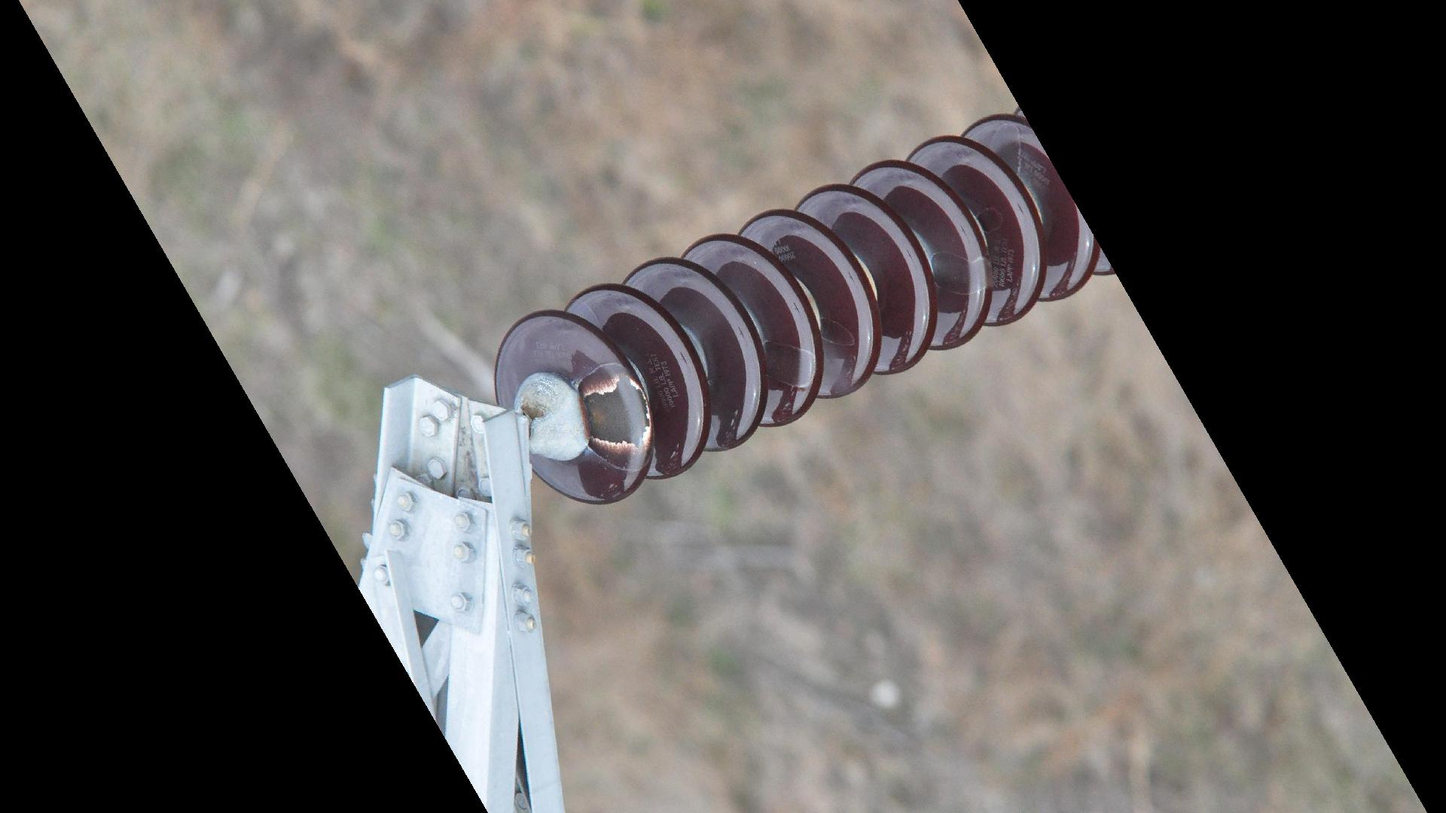insulator: (487, 101, 1124, 508)
insulator_flashover: (584, 375, 652, 448)
